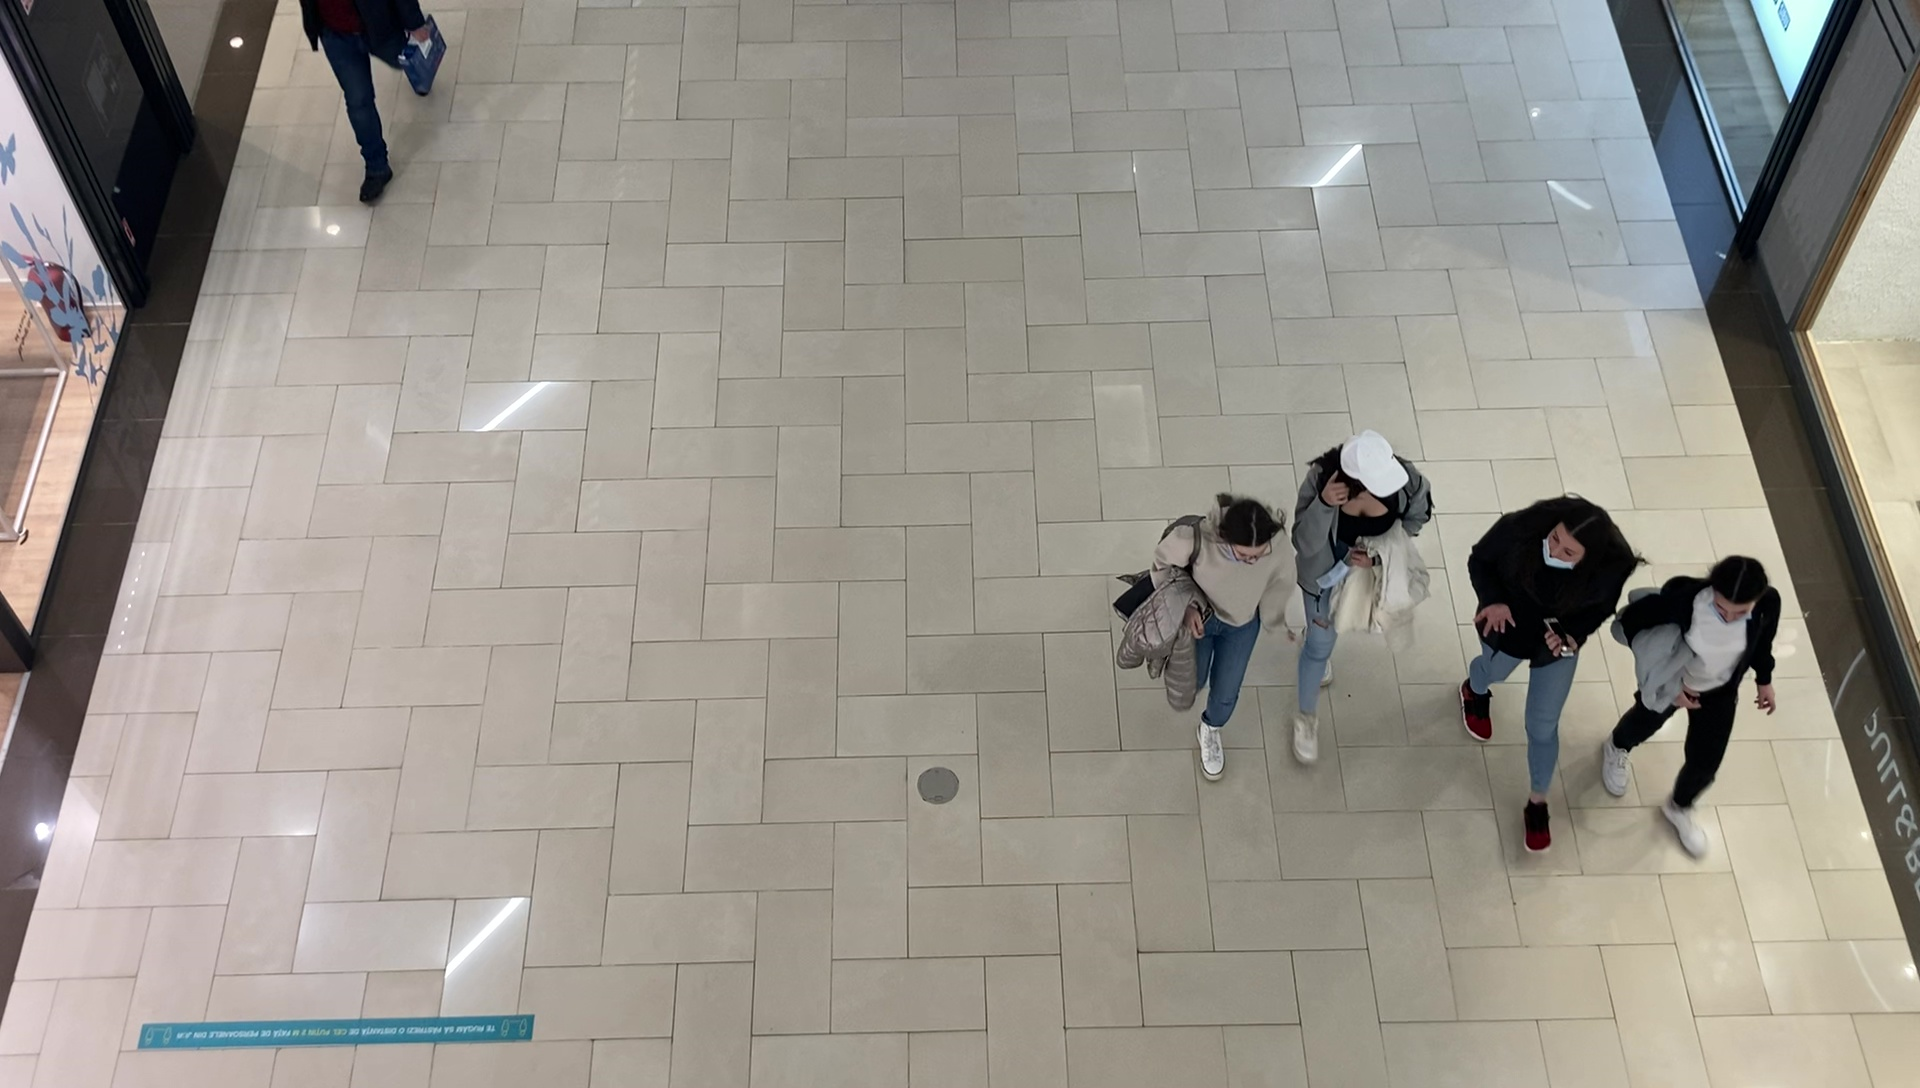person: (1459, 492, 1611, 857), (1622, 538, 1782, 866), (1286, 426, 1433, 767), (1111, 492, 1277, 783), (297, 1, 449, 205)
